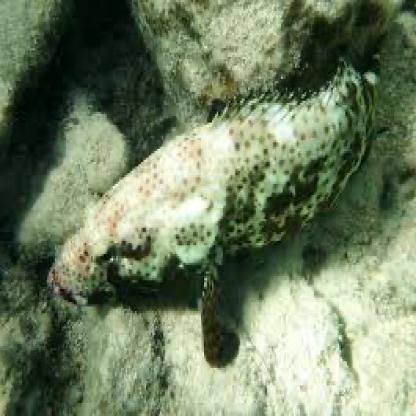Serranidae -Groupers-: (45, 51, 382, 367)
